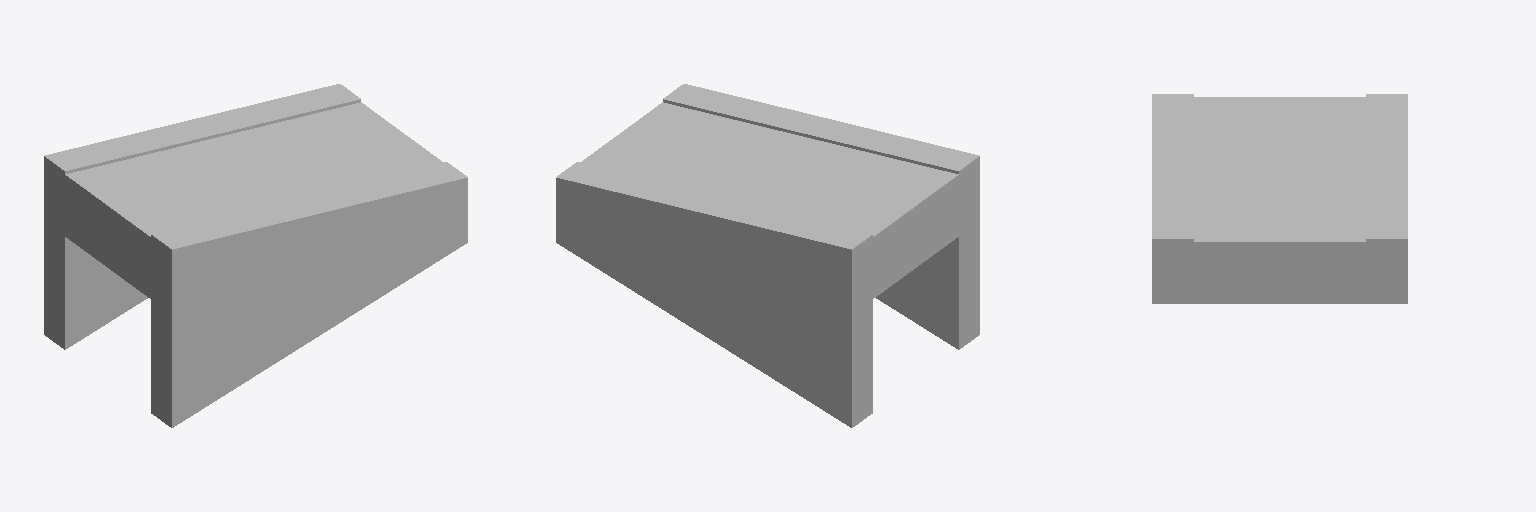
Rendered from tile124.obj.
3 views of the same model, side by side, from view 1: azimuth 30°, elevation 25°; view 2: azimuth 150°, elevation 25°; view 3: azimuth 270°, elevation 25° (orthographic).
Parts seen in each view (by area): view 1: tile124; view 2: tile124; view 3: tile124.
Boxes of the visible parts, <box> form: tile124: <box>44,84,467,427</box>; tile124: <box>556,84,979,427</box>; tile124: <box>1152,94,1407,303</box>.
Size of the model in its own units: 1 by 0.5767 by 0.75.